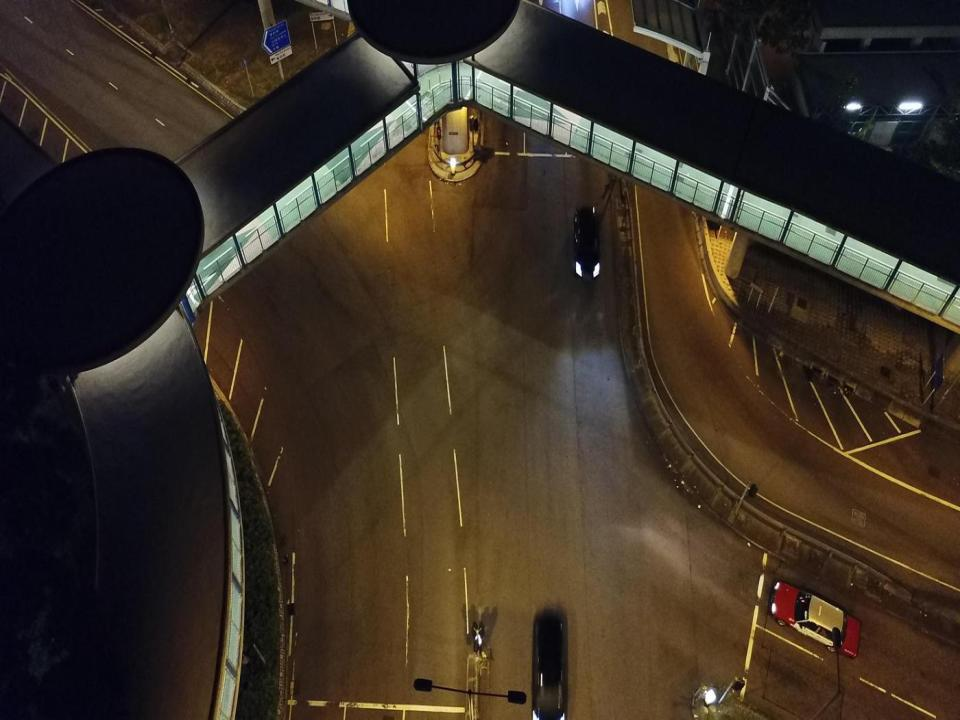car: (768, 580, 862, 660), (531, 613, 566, 719), (572, 206, 602, 282)
